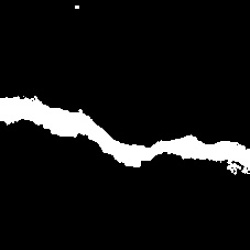crack: (2, 92, 249, 174)
pinhole: (73, 4, 82, 13)
